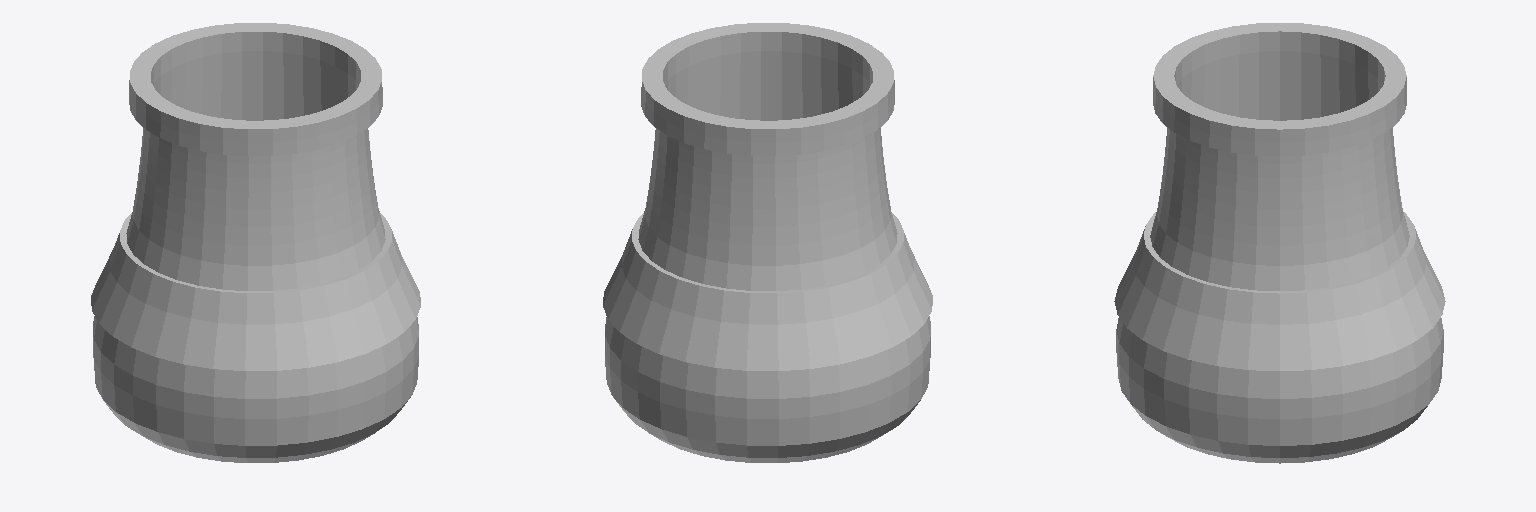
Rendered from cannon_10.obj.
3 renders of one model, left to right at view 1: azimuth 30°, elevation 25°; view 2: azimuth 150°, elevation 25°; view 3: azimuth 270°, elevation 25°, orthographic.
Parts seen in each view (by area): view 1: 炮管.003_柱体.009; view 2: 炮管.003_柱体.009; view 3: 炮管.003_柱体.009.
Boxes of the visible parts, x1,y1,x2,y2 form: 炮管.003_柱体.009: [91, 23, 420, 462]; 炮管.003_柱体.009: [603, 23, 932, 462]; 炮管.003_柱体.009: [1114, 23, 1445, 463].
Bounding box in the file's own units: 0.9405 × 1.13 × 0.9405.